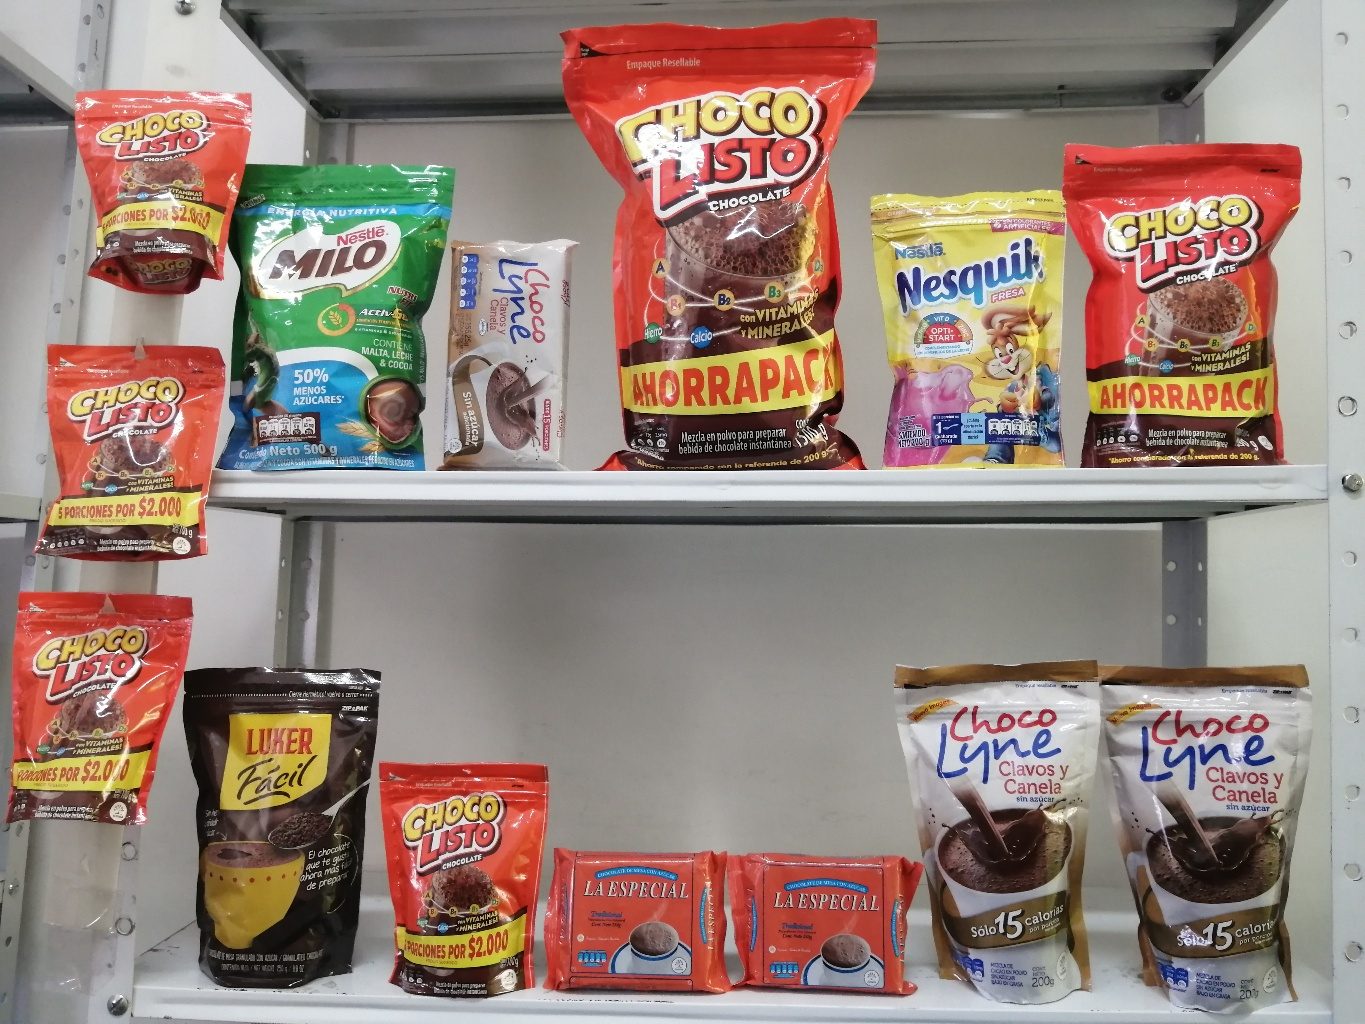COL0170103DYP1,500: (557, 24, 878, 471)
COL0170103DYP10000: (72, 87, 254, 294)
COL0170103DYP40000: (1060, 146, 1314, 467)
COL0170205DYP50000: (238, 160, 450, 471)
COL0170305DYP20000: (865, 190, 1070, 468)
